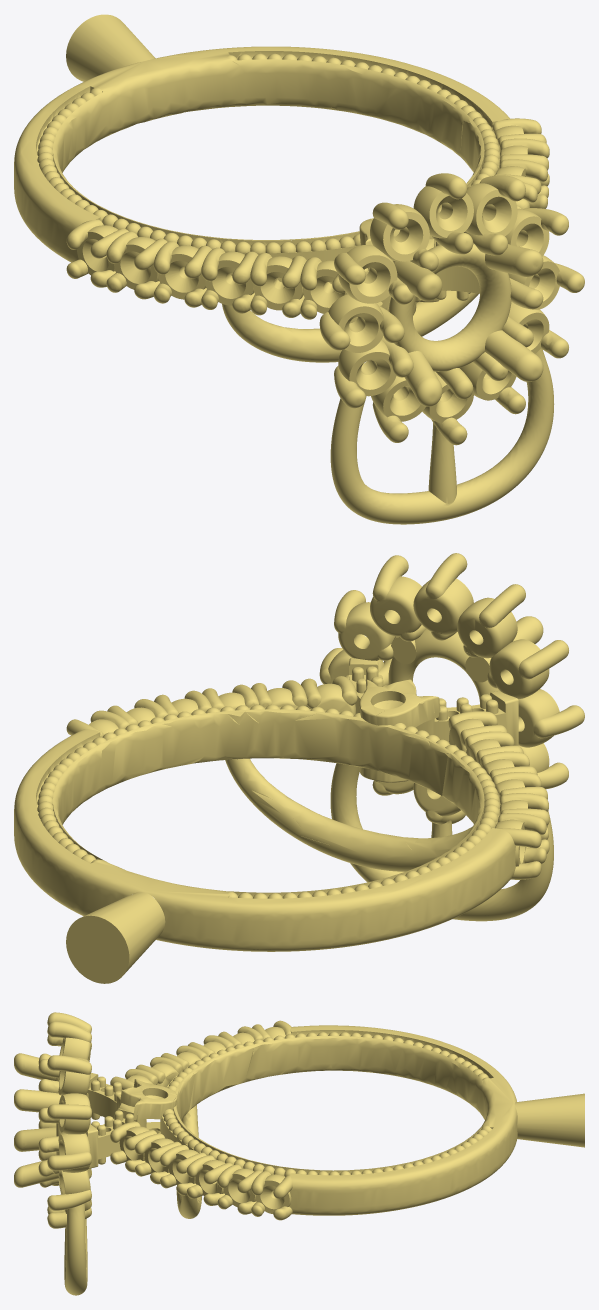
3 views of the same model, one above another, from view 1: azimuth 30°, elevation 25°; view 2: azimuth 150°, elevation 25°; view 3: azimuth 270°, elevation 25° (orthographic). The views are drawn at different scales.
Parts seen in each view (by area): view 1: Renderer Node; view 2: Renderer Node; view 3: Renderer Node.
Boxes of the visible parts, x1,y1,x2,y2 form: Renderer Node: (14, 14, 584, 524); Renderer Node: (14, 553, 584, 983); Renderer Node: (14, 1012, 584, 1295).
Bounding box in the file's own units: 23.03 × 16.38 × 32.65.
